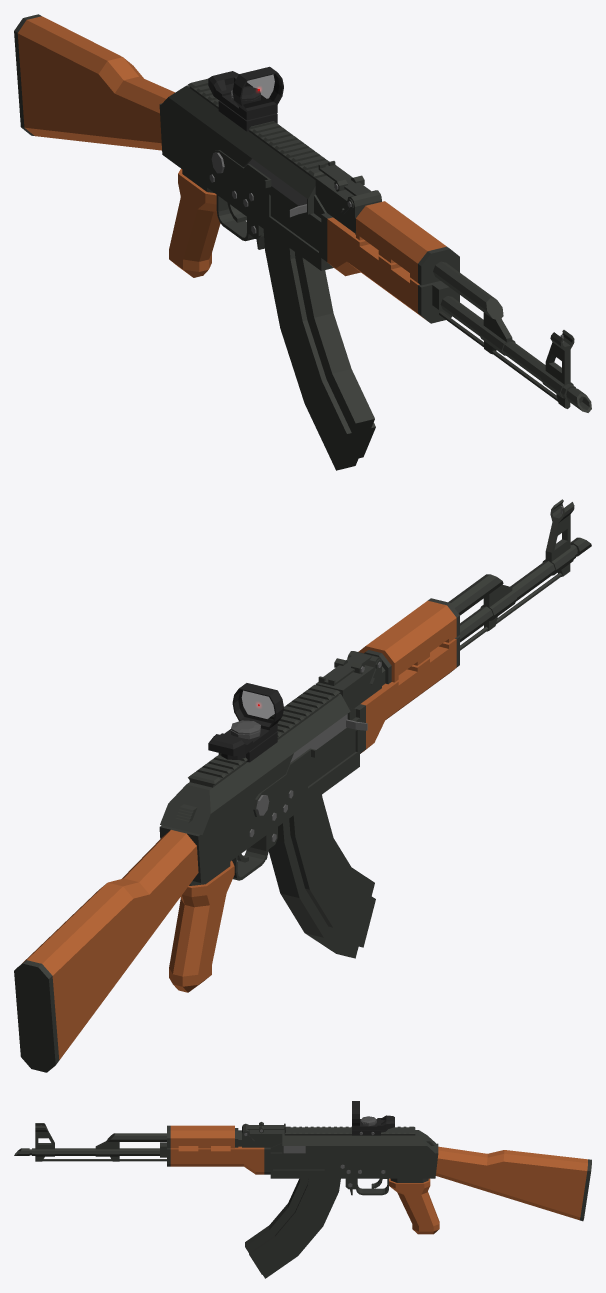
File: ak-47_reddot.glb
The picture shows the model from 3 angles, top to bottom: view 1: azimuth 30°, elevation 25°; view 2: azimuth 150°, elevation 25°; view 3: azimuth 270°, elevation 25°; orthographic projection. The views are drawn at different scales.
Parts seen in each view (by area): view 1: Cube.010, Cube.024, Cube.014, Cube.001, Cube.012, Cube.003, Cube.004, Cube.008, Cylinder.023, Cube.018, Cube.015, Cylinder.002 (+9 smaller); view 2: Cube.010, Cube.024, Cube.014, Cube.001, Cube.012, Cube.011, Cube.004, Cube.003, Cube.008, Cube.018, Cylinder.023, Cube.015 (+5 smaller); view 3: Cube.010, Cube.024, Cube.014, Cube.001, Cube.003, Cube.012, Cube.004, Cube.008, Cylinder.023, Cube.015, Cylinder.002, Cube.018 (+4 smaller).
Part boxes in pixels (bbox=[...]): Cube.010: bbox=[17, 16, 174, 150]; Cube.024: bbox=[263, 229, 375, 470]; Cube.014: bbox=[159, 103, 333, 270]; Cube.001: bbox=[160, 85, 315, 214]; Cube.012: bbox=[169, 168, 220, 277]; Cube.003: bbox=[327, 217, 424, 318]; Cube.004: bbox=[356, 201, 446, 282]; Cube.008: bbox=[188, 78, 329, 179]; Cylinder.023: bbox=[440, 296, 591, 412]; Cube.018: bbox=[208, 66, 283, 120]; Cube.015: bbox=[314, 175, 381, 232]; Cylinder.002: bbox=[433, 261, 503, 320]; Cube.010: bbox=[22, 830, 198, 1059]; Cube.024: bbox=[268, 795, 375, 958]; Cube.014: bbox=[159, 717, 359, 882]; Cube.001: bbox=[160, 693, 350, 835]; Cube.012: bbox=[169, 860, 234, 992]; Cube.011: bbox=[14, 960, 59, 1072]; Cube.004: bbox=[358, 600, 456, 682]; Cube.003: bbox=[360, 638, 456, 753]; Cube.008: bbox=[188, 684, 340, 787]; Cube.018: bbox=[208, 683, 283, 756]; Cylinder.023: bbox=[458, 537, 591, 642]; Cube.015: bbox=[315, 651, 381, 720]; Cube.010: bbox=[436, 1146, 587, 1220]; Cube.024: bbox=[245, 1178, 340, 1278]; Cube.014: bbox=[270, 1143, 438, 1178]; Cube.001: bbox=[282, 1130, 435, 1153]; Cube.003: bbox=[170, 1146, 264, 1174]; Cube.012: bbox=[389, 1178, 439, 1234]; Cube.004: bbox=[170, 1125, 234, 1148]; Cube.008: bbox=[284, 1126, 415, 1135]; Cylinder.023: bbox=[14, 1148, 159, 1155]; Cube.015: bbox=[242, 1123, 282, 1152]; Cylinder.002: bbox=[107, 1133, 166, 1141]; Cube.018: bbox=[352, 1101, 394, 1129].
Bounding box in the file's own units: 0.6263 × 3.26 × 9.97.
Materials: 8 (1 with a texture image).
